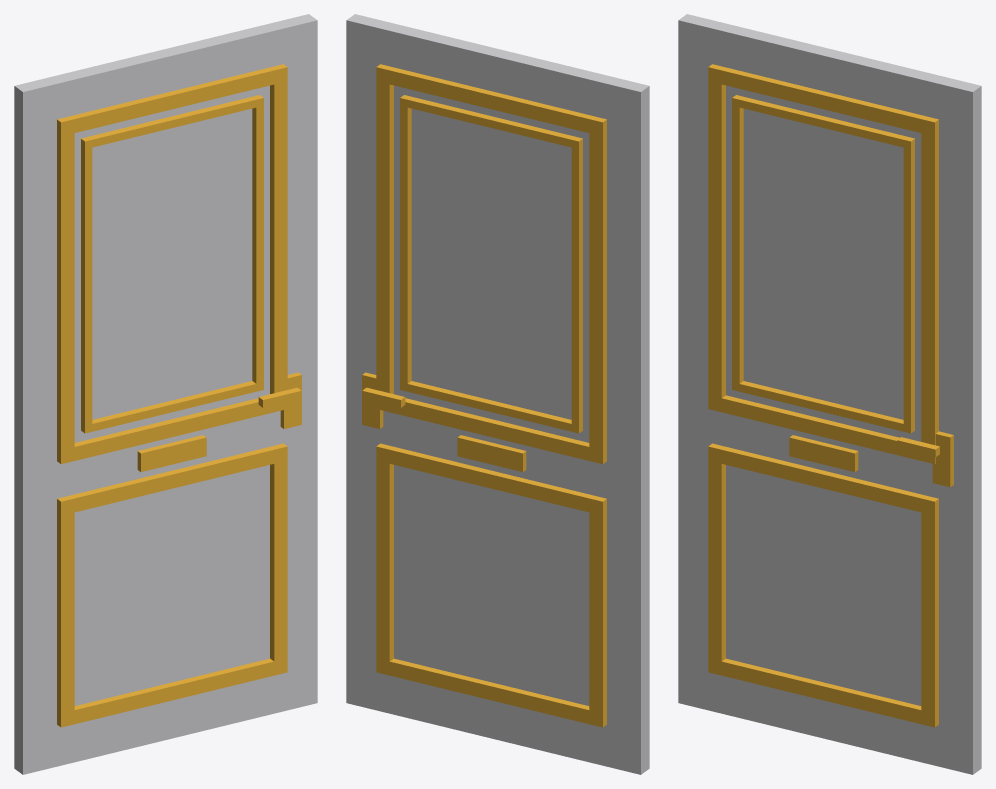
File: SM_Door_obelisk_inner_100x220.fbx
The picture shows the model from 3 angles, left to right: view 1: azimuth 30°, elevation 25°; view 2: azimuth 150°, elevation 25°; view 3: azimuth 330°, elevation 25°; orthographic projection.
Parts seen in each view (by area): view 1: SM_Door_obelisk_inner_100x220; view 2: SM_Door_obelisk_inner_100x220; view 3: SM_Door_obelisk_inner_100x220.
Boxes of the visible parts, x1,y1,x2,y2 form: SM_Door_obelisk_inner_100x220: (14,14,317,774); SM_Door_obelisk_inner_100x220: (346,14,649,774); SM_Door_obelisk_inner_100x220: (678,14,981,774).
Size of the model in its own units: 0.988 by 2.19 by 0.175.
